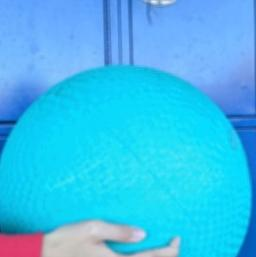algae: (0, 63, 251, 257)
